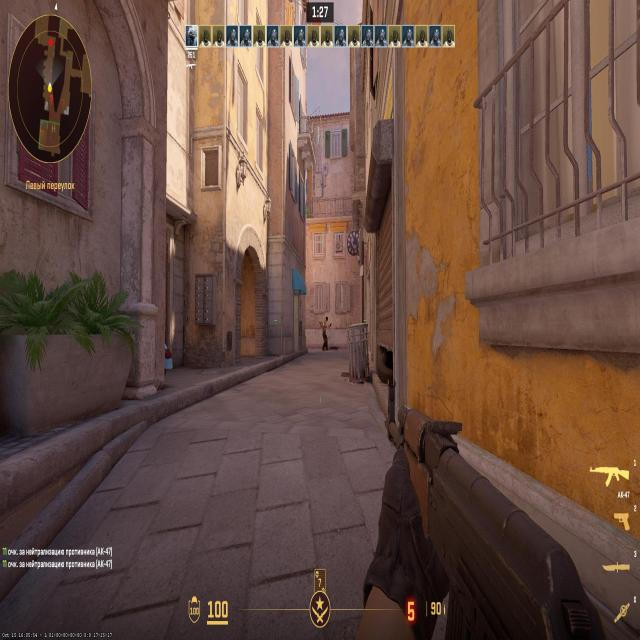T: (323, 316, 328, 350)
T_heat: (324, 317, 328, 323)
